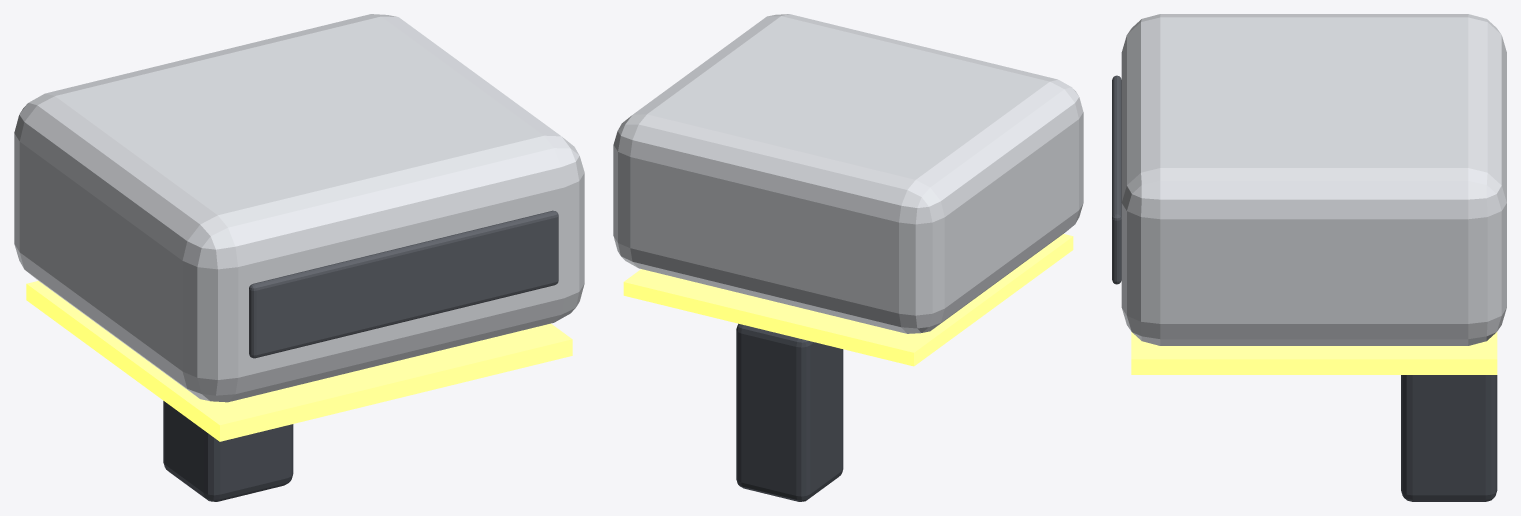
The model's file is nightstand_floating.glb.
The picture shows the model from 3 angles, left to right: view 1: azimuth 30°, elevation 25°; view 2: azimuth 150°, elevation 25°; view 3: azimuth 270°, elevation 25°; orthographic projection. The views are drawn at different scales.
Visible parts, largest first — view 1: GD_nightstand_floating__m0, GD_nightstand_floating__m1, GD_nightstand_floating__m2, GD_nightstand_floating__m3; view 2: GD_nightstand_floating__m0, GD_nightstand_floating__m3, GD_nightstand_floating__m2; view 3: GD_nightstand_floating__m0, GD_nightstand_floating__m3, GD_nightstand_floating__m2, GD_nightstand_floating__m1.
Boxes of the visible parts, bbox=[...] form: GD_nightstand_floating__m0: bbox=[14, 14, 584, 402]; GD_nightstand_floating__m1: bbox=[249, 210, 558, 358]; GD_nightstand_floating__m2: bbox=[26, 281, 572, 441]; GD_nightstand_floating__m3: bbox=[163, 401, 293, 501]; GD_nightstand_floating__m0: bbox=[613, 14, 1083, 333]; GD_nightstand_floating__m3: bbox=[736, 323, 843, 501]; GD_nightstand_floating__m2: bbox=[623, 234, 1073, 366]; GD_nightstand_floating__m0: bbox=[1121, 14, 1506, 345]; GD_nightstand_floating__m3: bbox=[1401, 375, 1497, 501]; GD_nightstand_floating__m2: bbox=[1131, 332, 1497, 374]; GD_nightstand_floating__m1: bbox=[1112, 75, 1121, 284].
Bounding box in the file's own units: 0.45 × 0.45 × 0.41.
